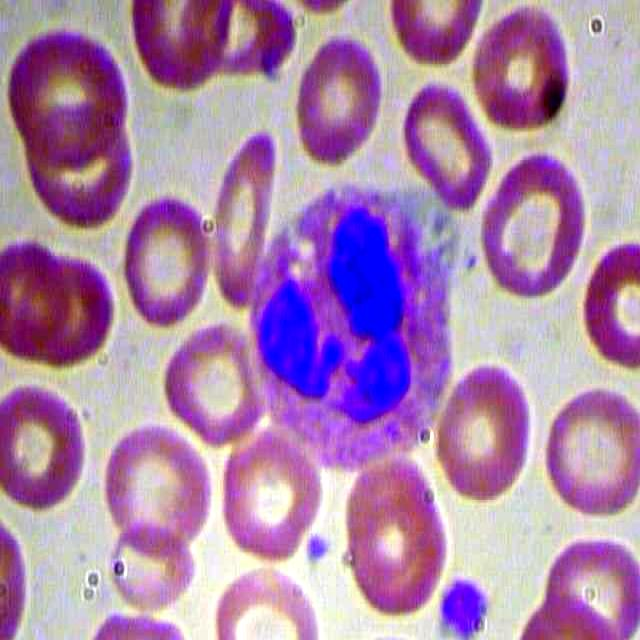Platelets: (437, 568, 492, 639), (302, 533, 337, 564)
RBC: (474, 147, 596, 308), (429, 346, 537, 510), (2, 27, 129, 160), (101, 417, 214, 548), (213, 428, 326, 559), (347, 476, 449, 613), (16, 232, 118, 369), (163, 314, 264, 450), (471, 1, 572, 136), (1, 380, 101, 516), (543, 381, 640, 515), (121, 188, 214, 327), (295, 33, 388, 172), (398, 79, 495, 212), (213, 131, 283, 308), (539, 536, 640, 640), (106, 516, 198, 615)
WBC: (235, 184, 477, 473)
